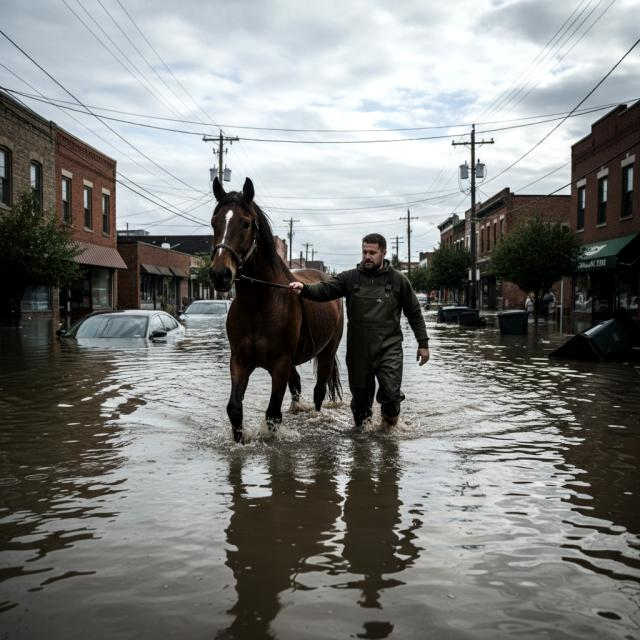civilian: (298, 218, 440, 440)
horse: (188, 158, 351, 438)
